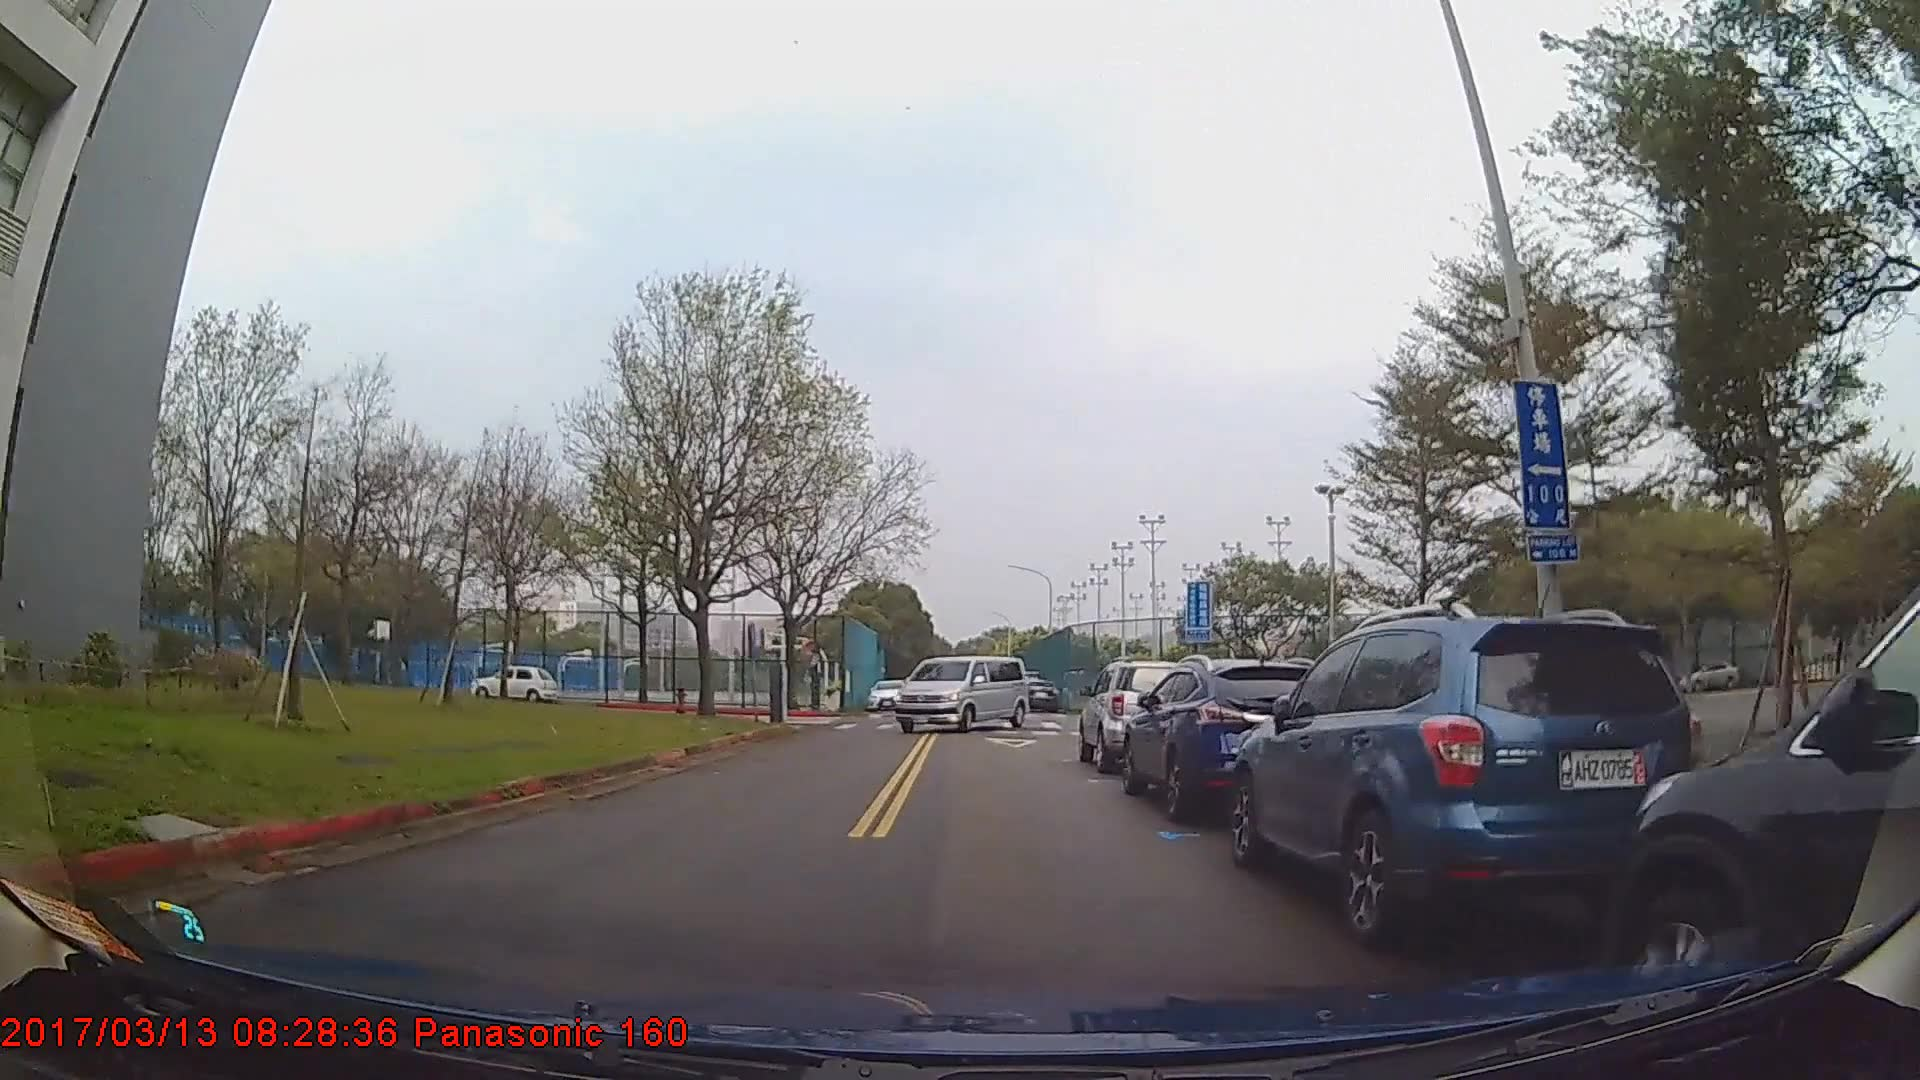vehicle: (1222, 616, 1706, 944), (1604, 592, 1920, 1019), (1120, 657, 1331, 822), (1079, 659, 1196, 771), (890, 653, 1029, 735), (473, 662, 558, 704), (1015, 676, 1062, 711), (866, 676, 906, 709)
